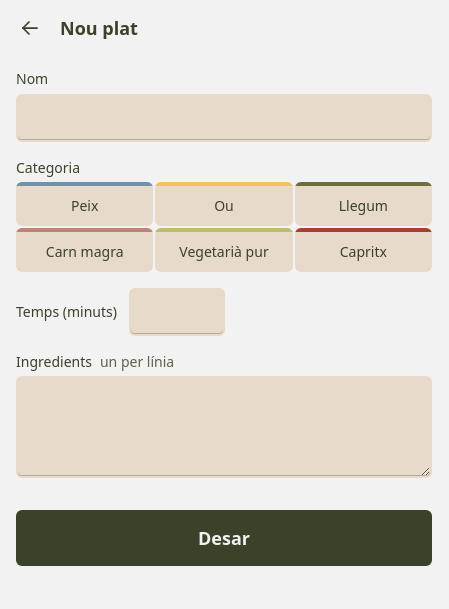
Scenario: DishFormScreen › sense categoria ho diu
The image size is (449, 609).
expect the heading "Nou plat" is shown: met, box [60,16,138,40]
expect the button "Desar" is shown: met, box [16,510,432,566]
In the field labelled "Nom": (224, 118) [16,94,432,142], type "Pastís"
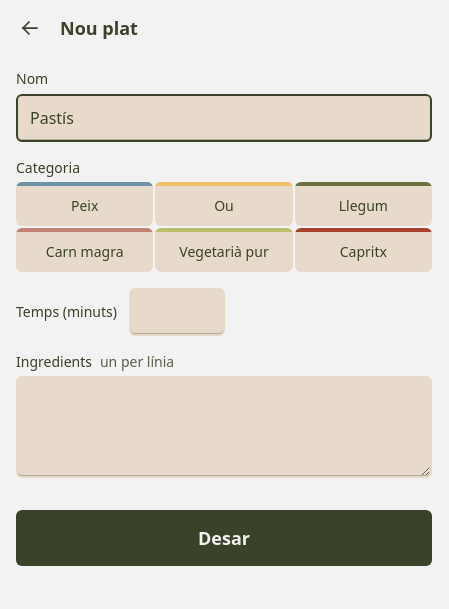
Click the button "Desar": (224, 538) [16,510,432,566]
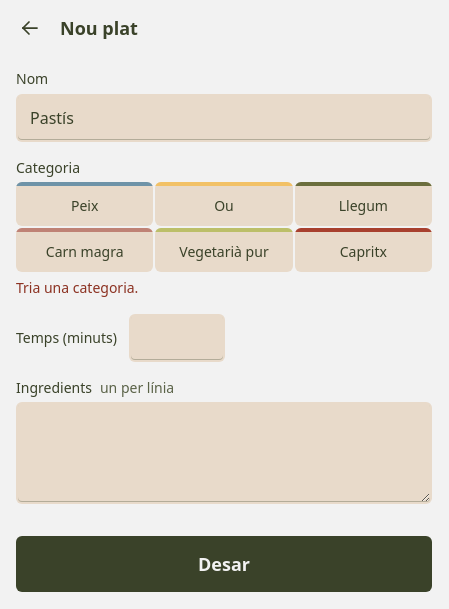
expect the text "Tria una categoria." is shown: met, box [16,278,138,297]
